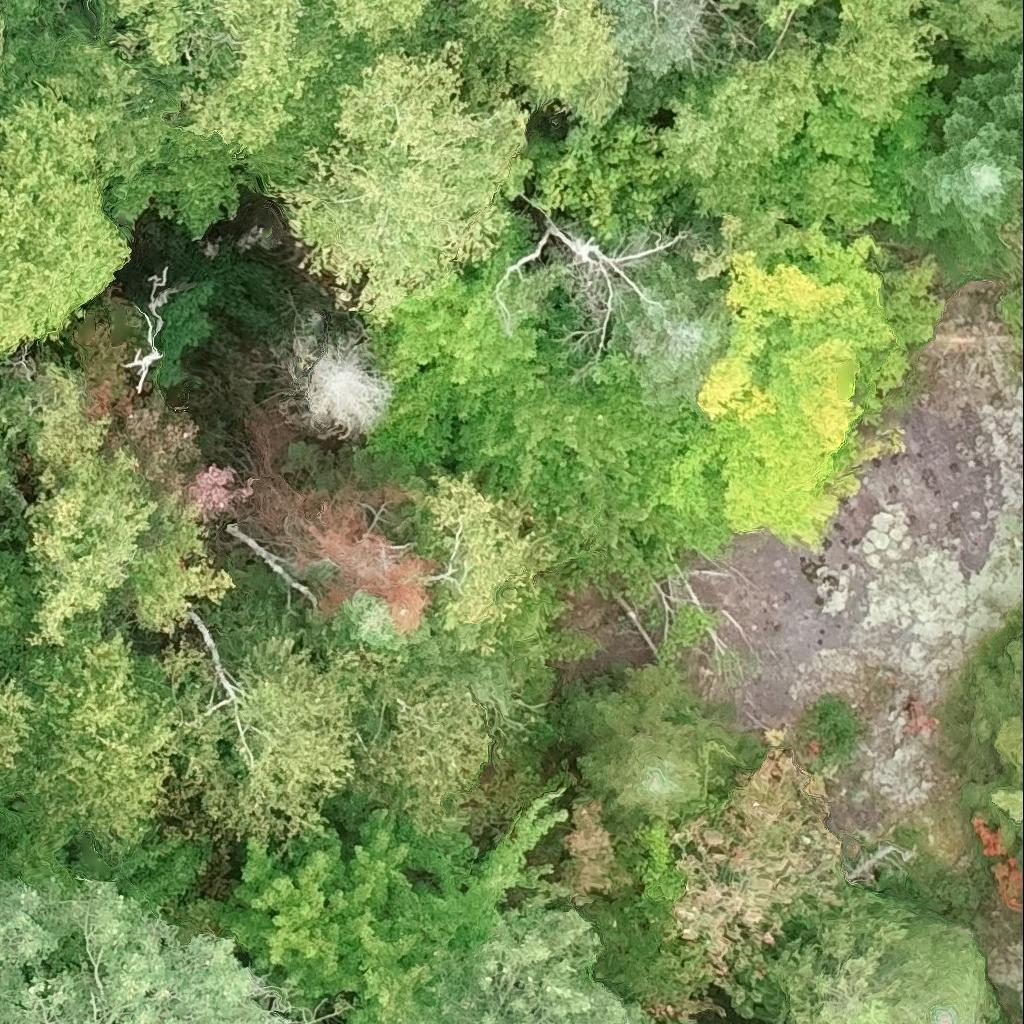crown: (657, 231, 910, 567), (269, 39, 530, 324), (450, 337, 706, 618), (635, 721, 863, 1015), (665, 30, 910, 264), (9, 5, 241, 239), (91, 0, 377, 188), (0, 610, 206, 869), (362, 191, 552, 470), (21, 431, 233, 647), (376, 780, 630, 950), (217, 802, 411, 1021), (176, 635, 369, 853), (0, 880, 276, 1023), (0, 71, 132, 366), (420, 0, 630, 129), (354, 651, 495, 838), (424, 907, 651, 1023), (576, 666, 745, 819), (409, 469, 562, 635), (757, 0, 952, 128), (500, 224, 686, 356), (302, 590, 512, 704), (499, 116, 682, 243), (898, 78, 1023, 257), (770, 893, 917, 1023), (800, 87, 951, 211), (454, 568, 597, 695), (610, 260, 732, 403), (353, 879, 474, 1023), (915, 875, 1023, 1023), (869, 905, 998, 1023), (966, 608, 1023, 874), (0, 346, 115, 475), (295, 312, 393, 438), (0, 0, 76, 107), (508, 236, 585, 339), (306, 0, 446, 55), (927, 0, 1023, 68), (0, 874, 61, 973), (974, 811, 1023, 913), (975, 48, 1023, 131), (445, 0, 545, 38), (0, 680, 32, 768), (1000, 180, 1023, 284), (0, 576, 17, 641), (646, 0, 666, 34), (986, 1003, 1007, 1023), (0, 467, 8, 489)
